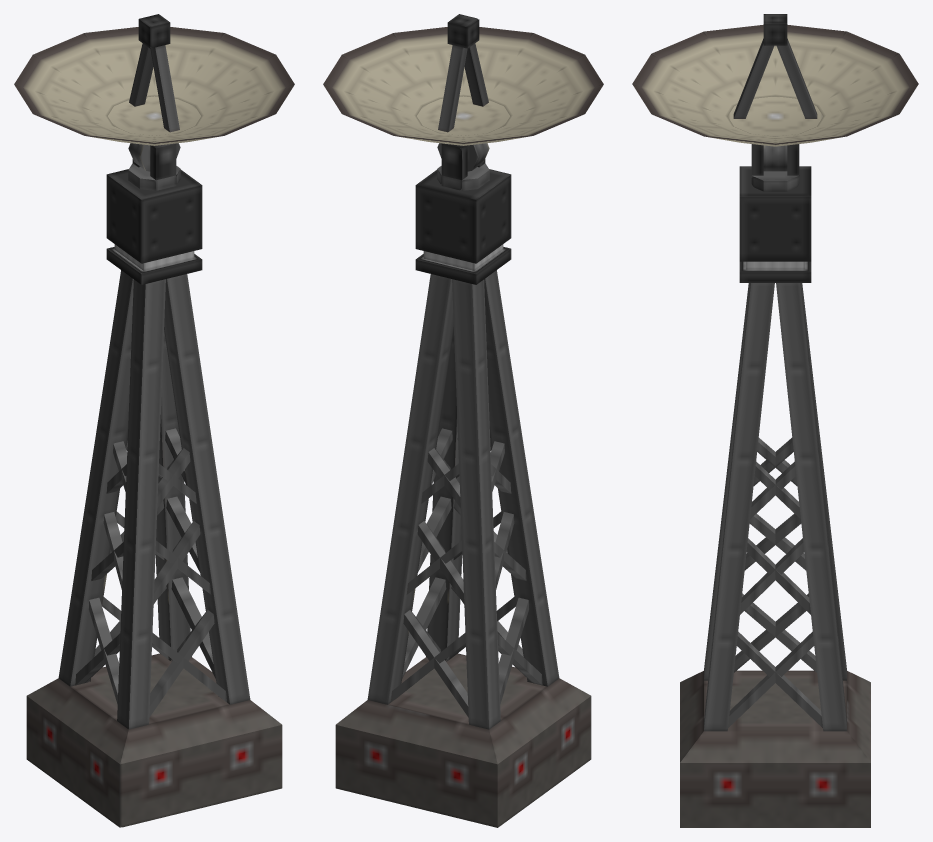
File: satlink.obj
3 views of the same model, side by side, from view 1: azimuth 30°, elevation 25°; view 2: azimuth 150°, elevation 25°; view 3: azimuth 270°, elevation 25° (orthographic). The views are drawn at different scales.
Parts seen in each view (by area): view 1: Base, Dish, Rotor; view 2: Base, Dish, Rotor; view 3: Base, Dish, Rotor.
Boxes of the visible parts, x1,y1,x2,y2 form: Base: (26, 169, 282, 827); Dish: (14, 14, 294, 171); Rotor: (128, 143, 180, 190); Base: (335, 169, 591, 827); Dish: (323, 14, 603, 171); Rotor: (437, 143, 489, 190); Base: (680, 166, 870, 827); Dish: (632, 14, 918, 171); Rotor: (751, 144, 799, 191).
Bounding box in the file's own units: 3 × 8.88 × 3.
